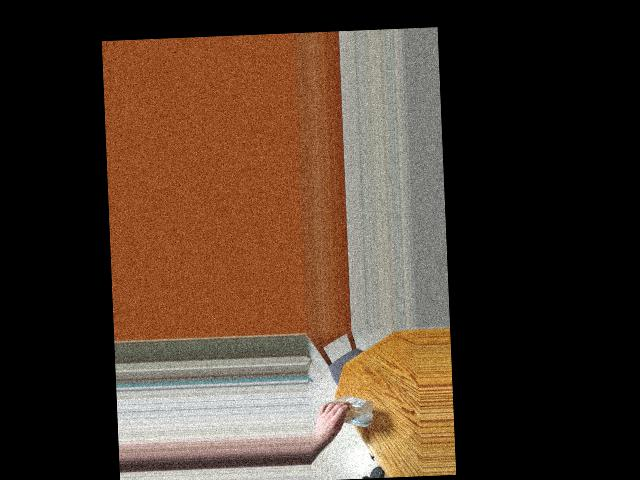cheese: (320, 394, 365, 432)
